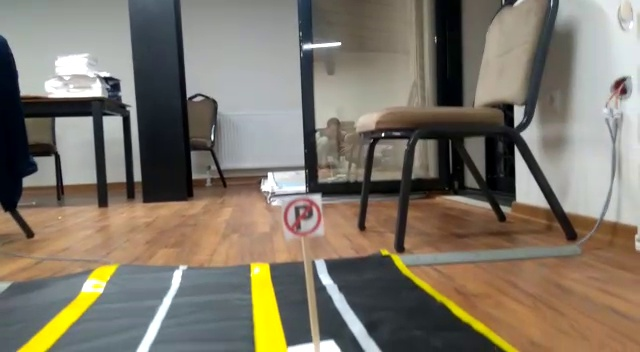park_yapilmaz: (280, 195, 323, 236)
